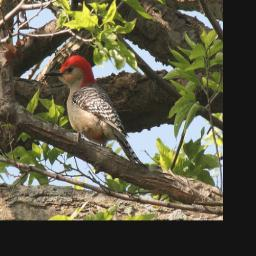Woodpecker: (43, 52, 147, 168)
